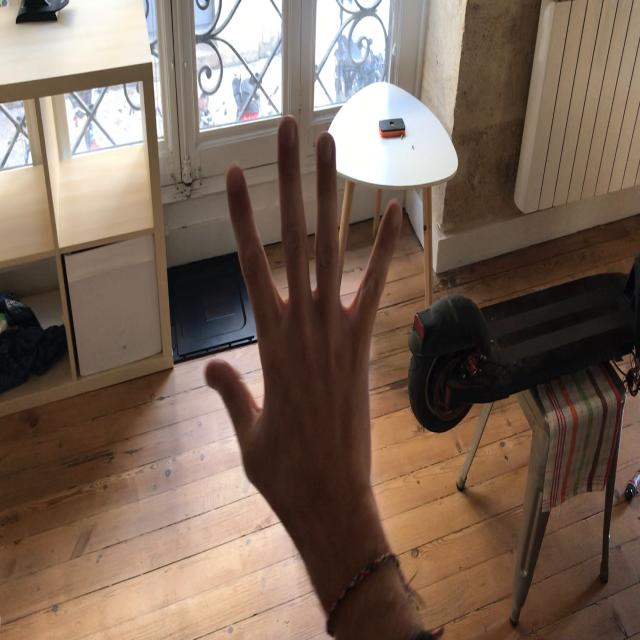hand: (202, 112, 402, 509)
